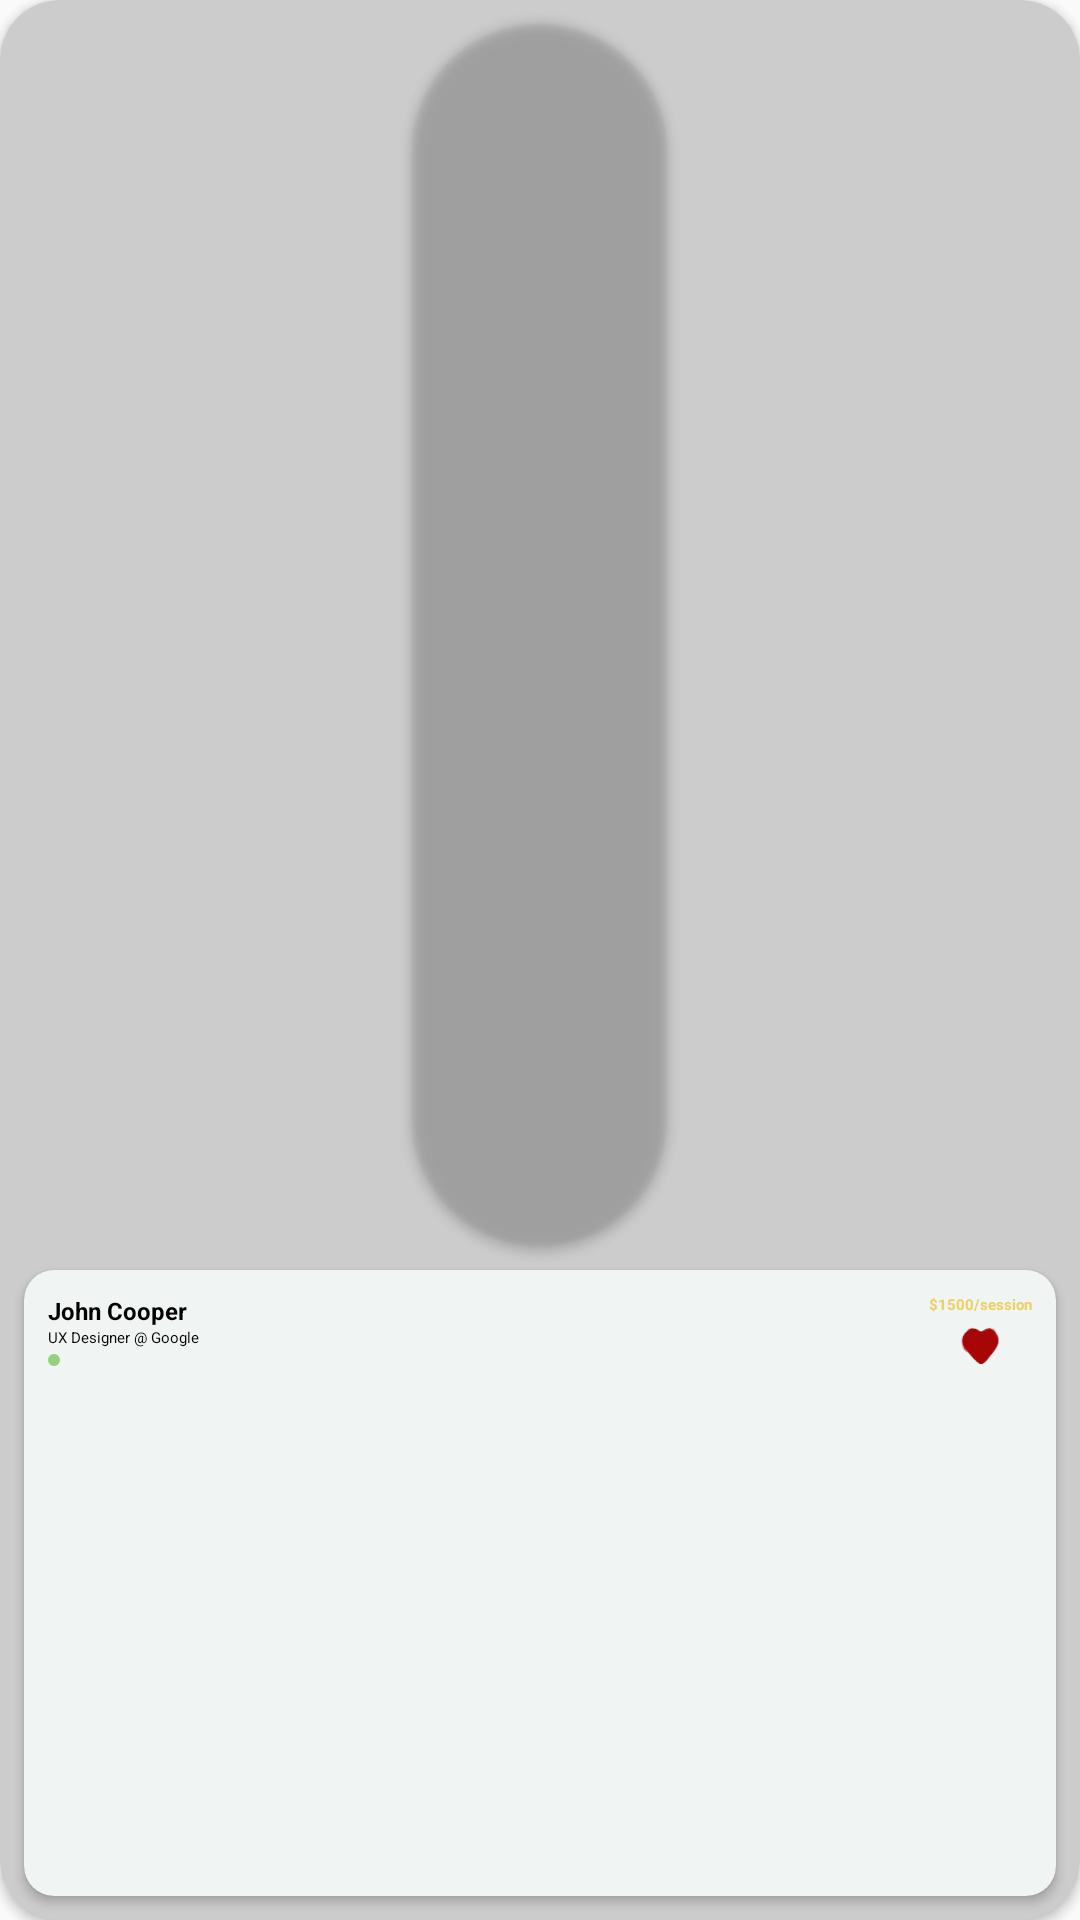

Named icons in this screenshot (1080*1920) and their centers, point (x, y):
heart: point (980, 1346)
